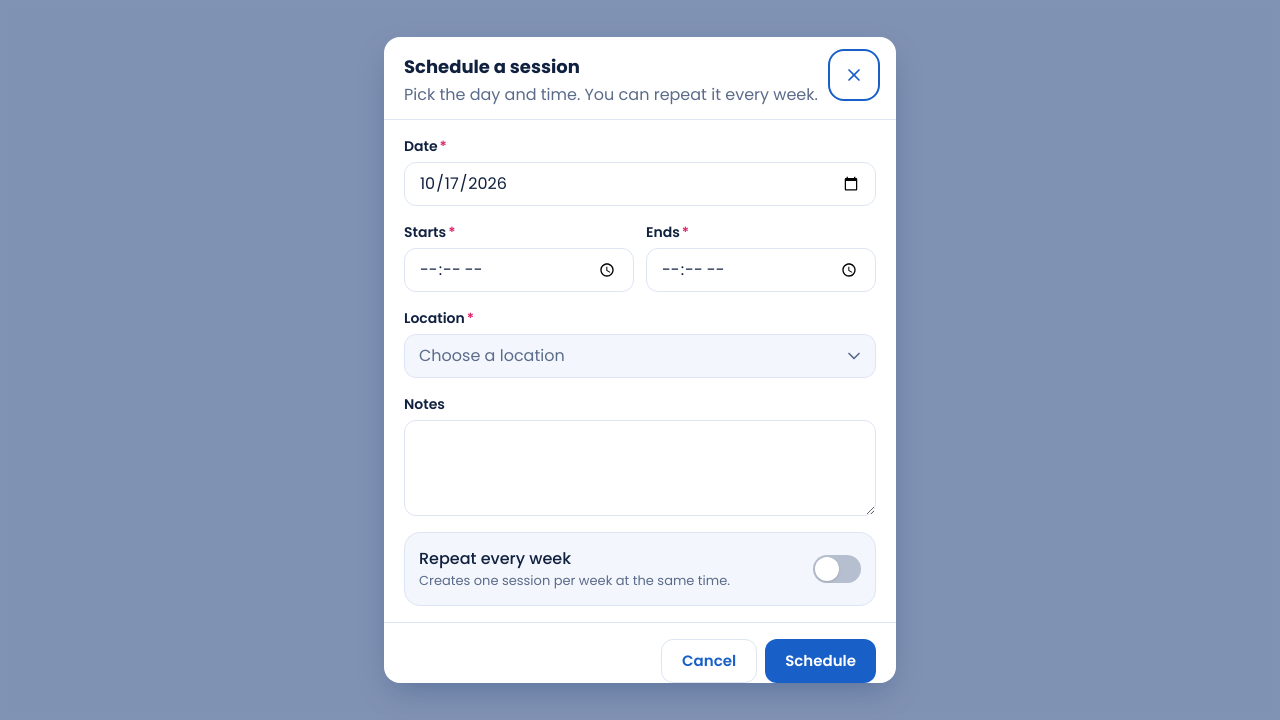
Test: SessionFormDialog › validation › needs the end to be after the start
In the date field labelled "Date*": (640, 184) [404,162,876,206], type "2099-01-05"
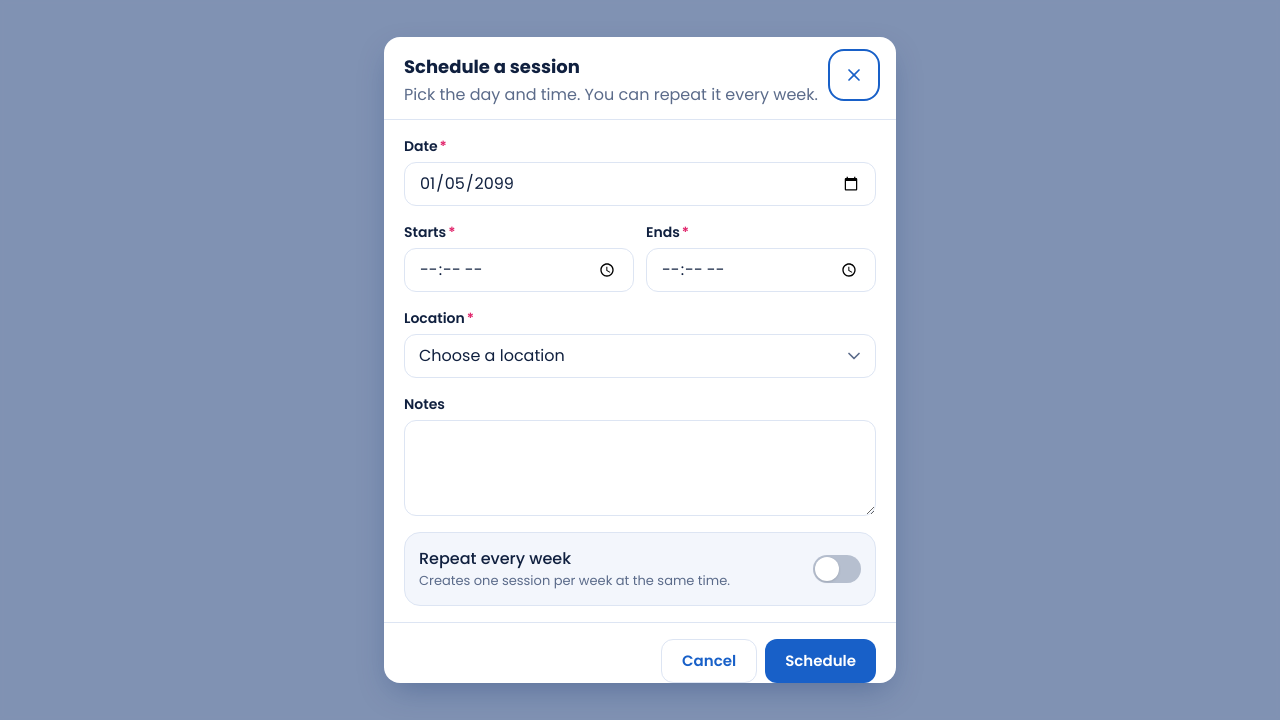
In the time field labelled "Starts*": (519, 270) [404,248,634,292], type "17:00"
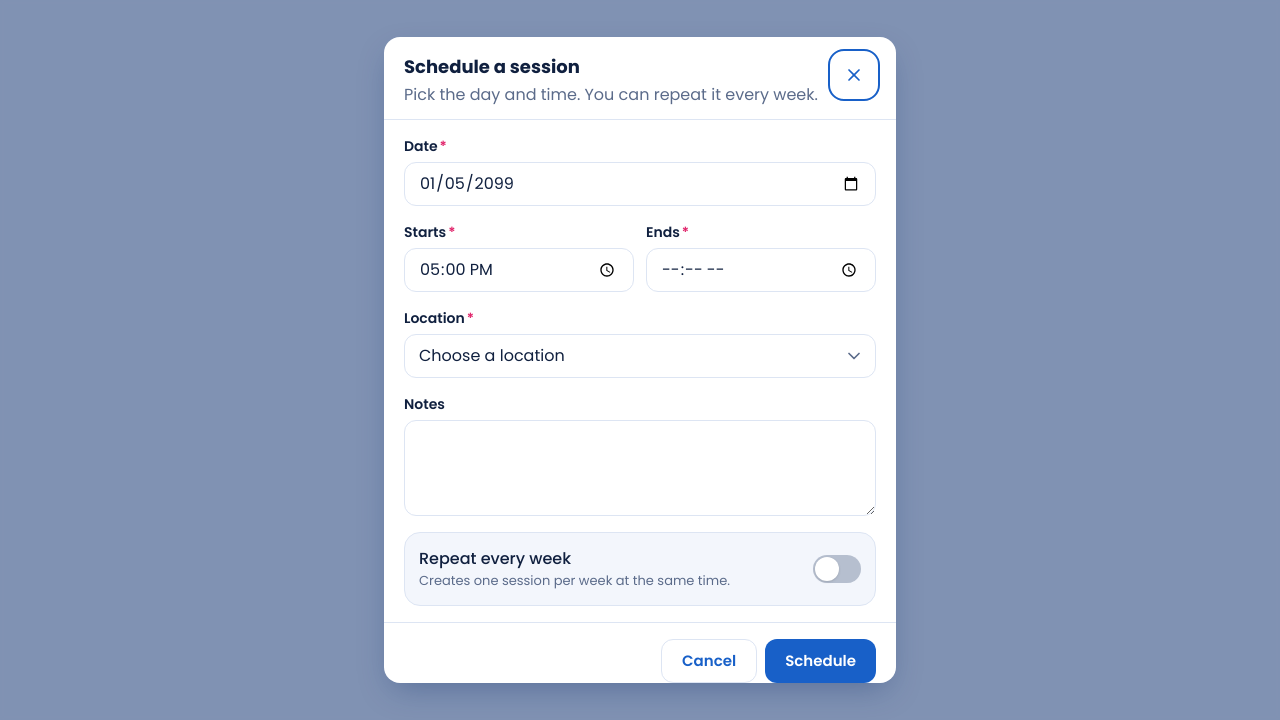
In the time field labelled "Ends*": (761, 270) [646,248,876,292], type "16:00"
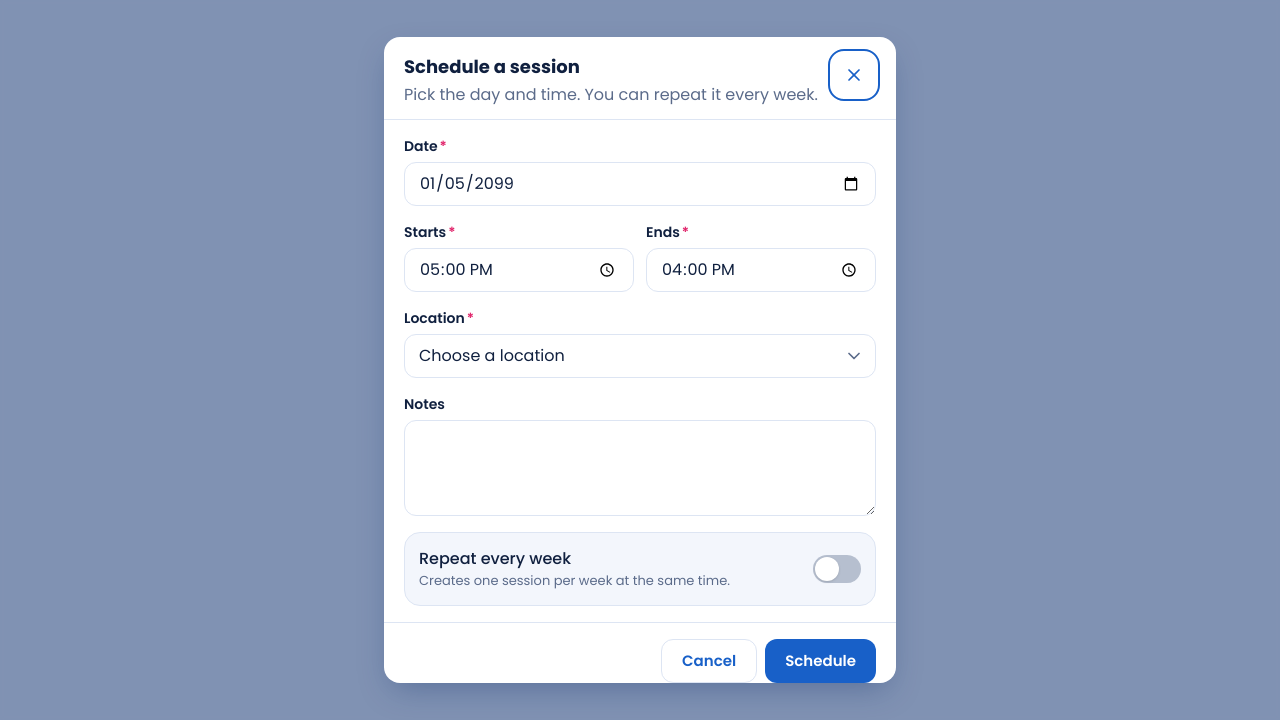
Click the button "Schedule": (821, 661) [765,639,876,683]
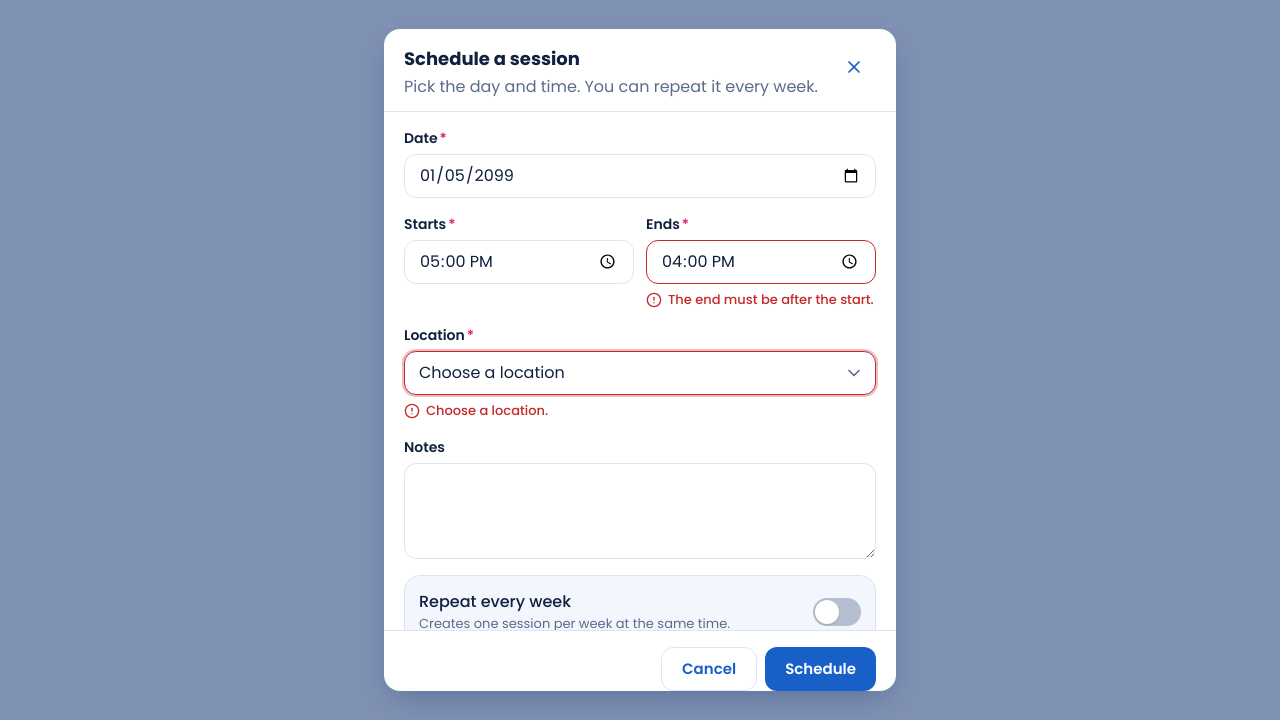
Result: the text "The end must be after the start." is shown at [668,290,874,309]
